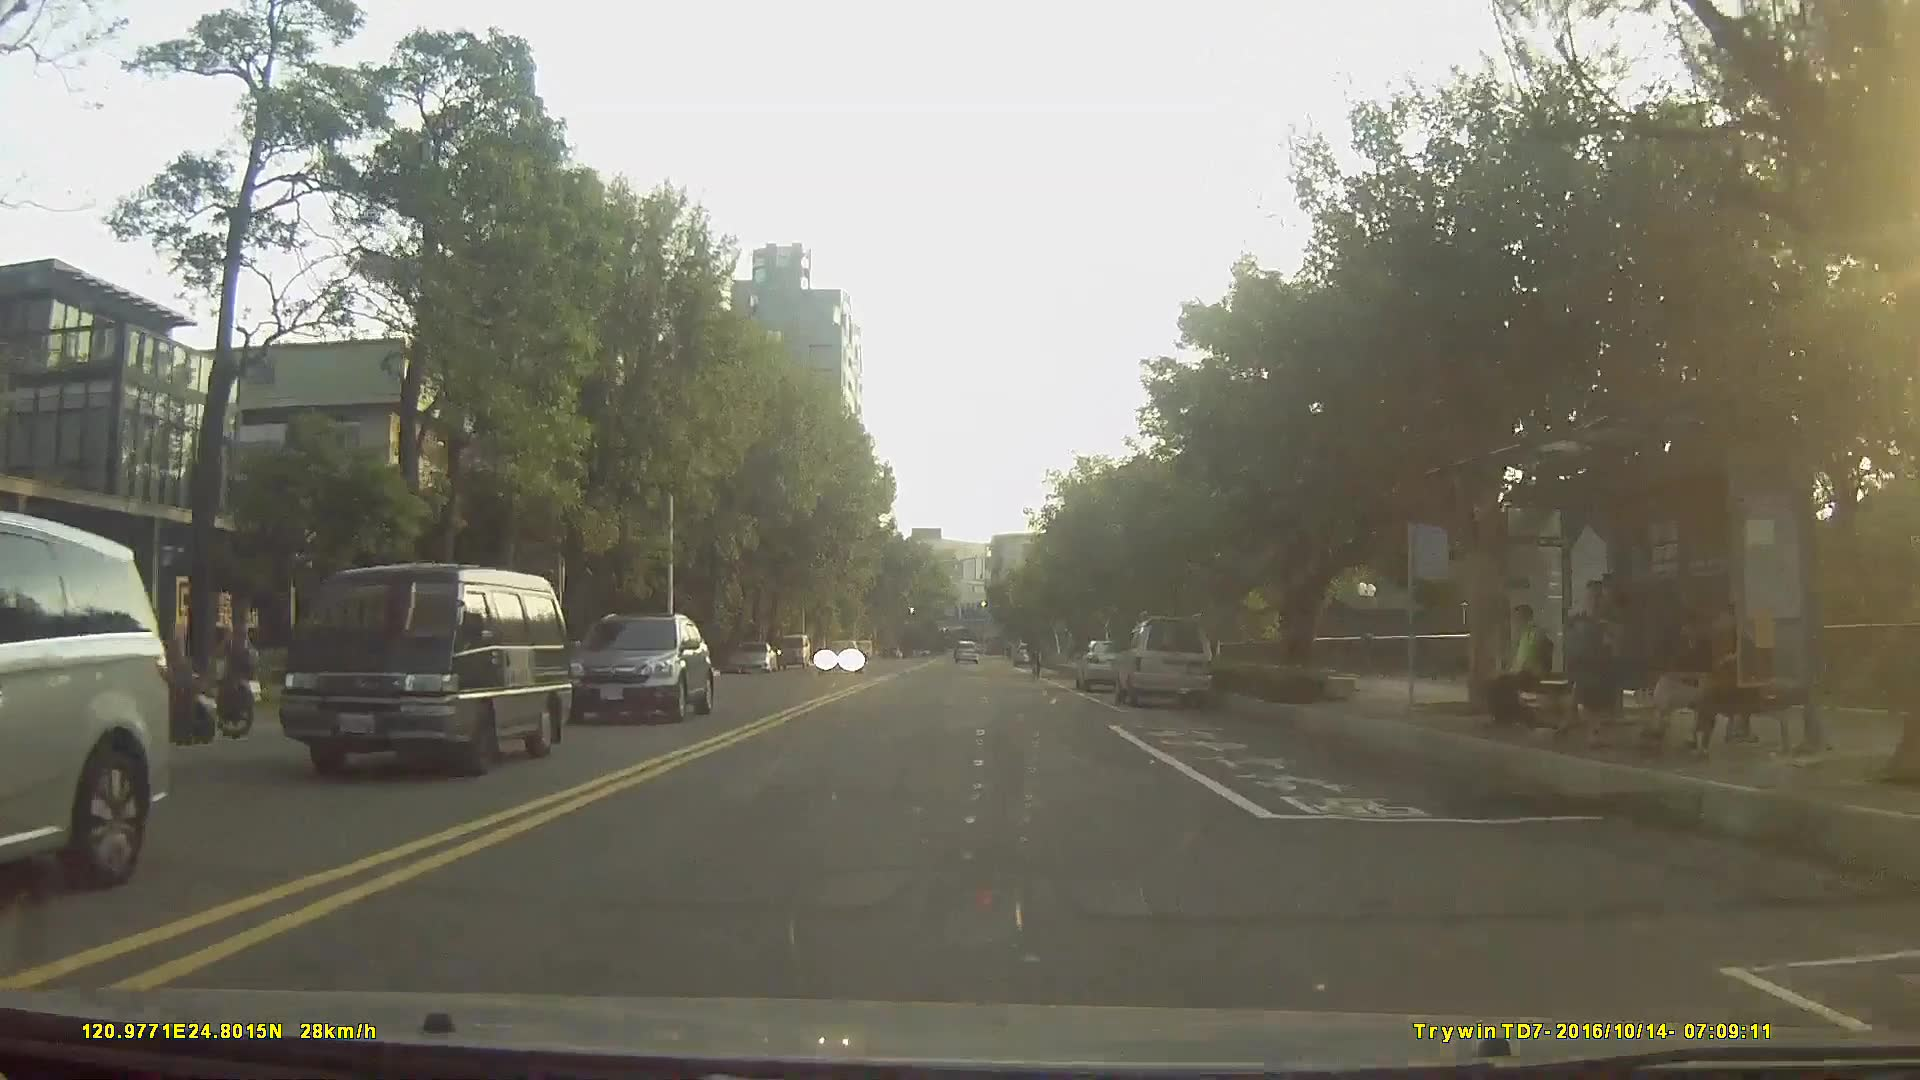pedestrian: (1685, 597, 1791, 760), (1643, 614, 1734, 755), (1561, 575, 1629, 751), (1492, 594, 1563, 731)
rider: (1026, 633, 1046, 683)
vehicle: (273, 562, 569, 782), (0, 511, 168, 894), (564, 613, 714, 723), (1112, 617, 1212, 708), (1075, 637, 1137, 690), (816, 635, 861, 672), (730, 639, 776, 675), (774, 632, 810, 672), (951, 641, 977, 667)
